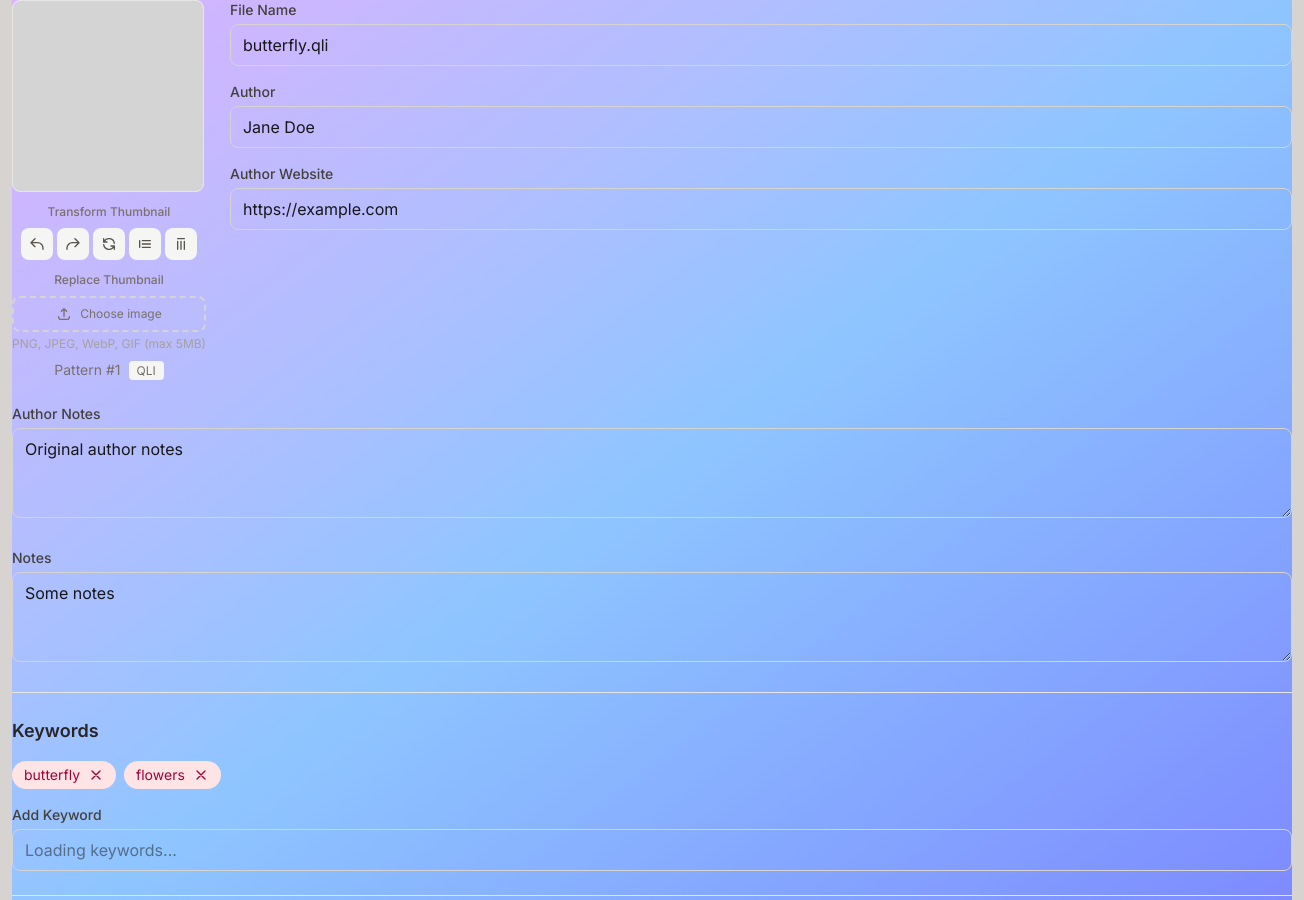
Test case: PatternEditForm › keyword dropdown › shows dropdown when search input is focused
The image size is (1304, 900).
Focus the field labelled "Add Keyword". click: {"x": 652, "y": 850}
box: [12,829,1292,871]
(page scrolled)
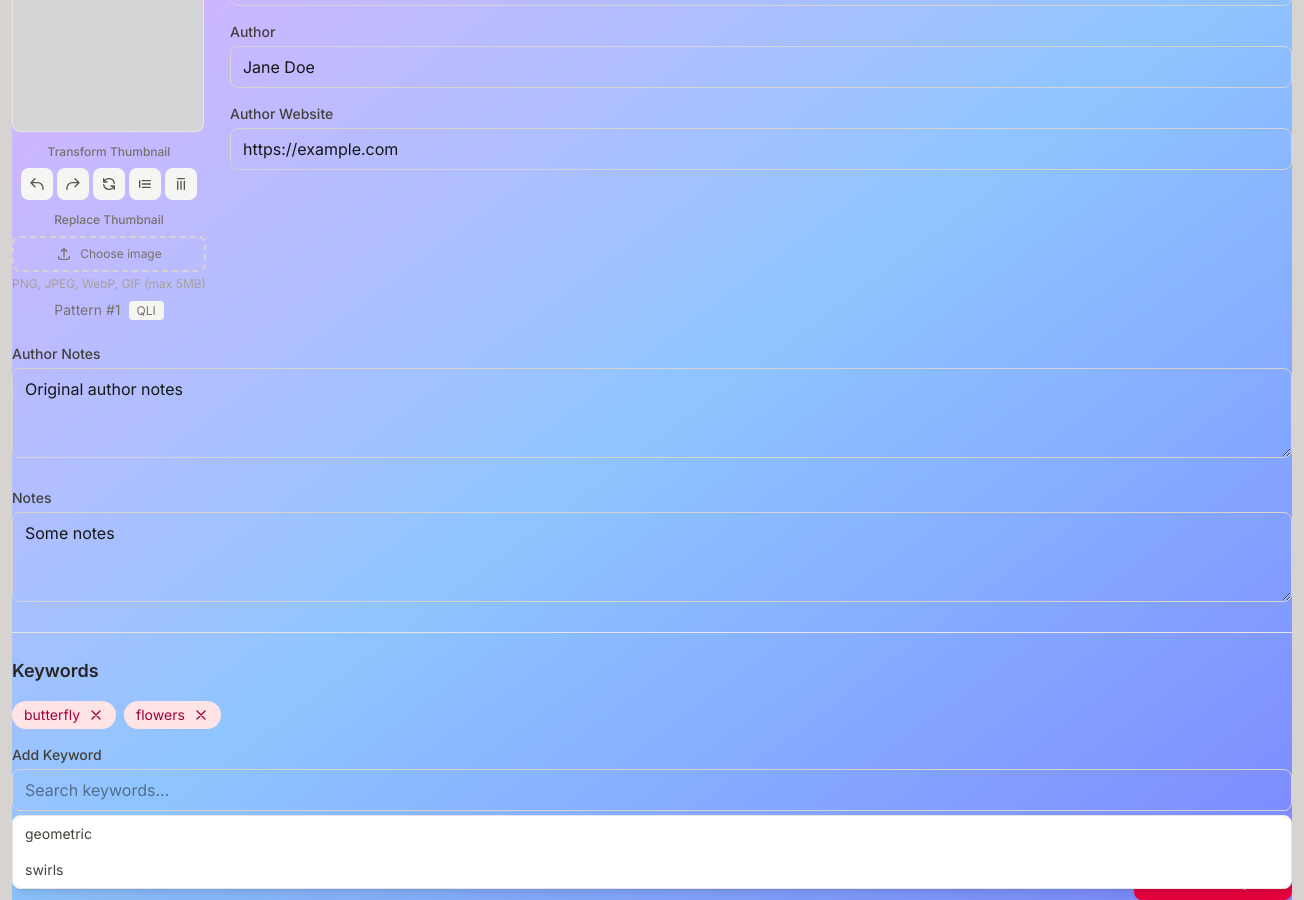
expect the button "geometric" is shown: met, box [13,816,1291,852]
expect the button "swirls" is shown: met, box [13,852,1291,888]
